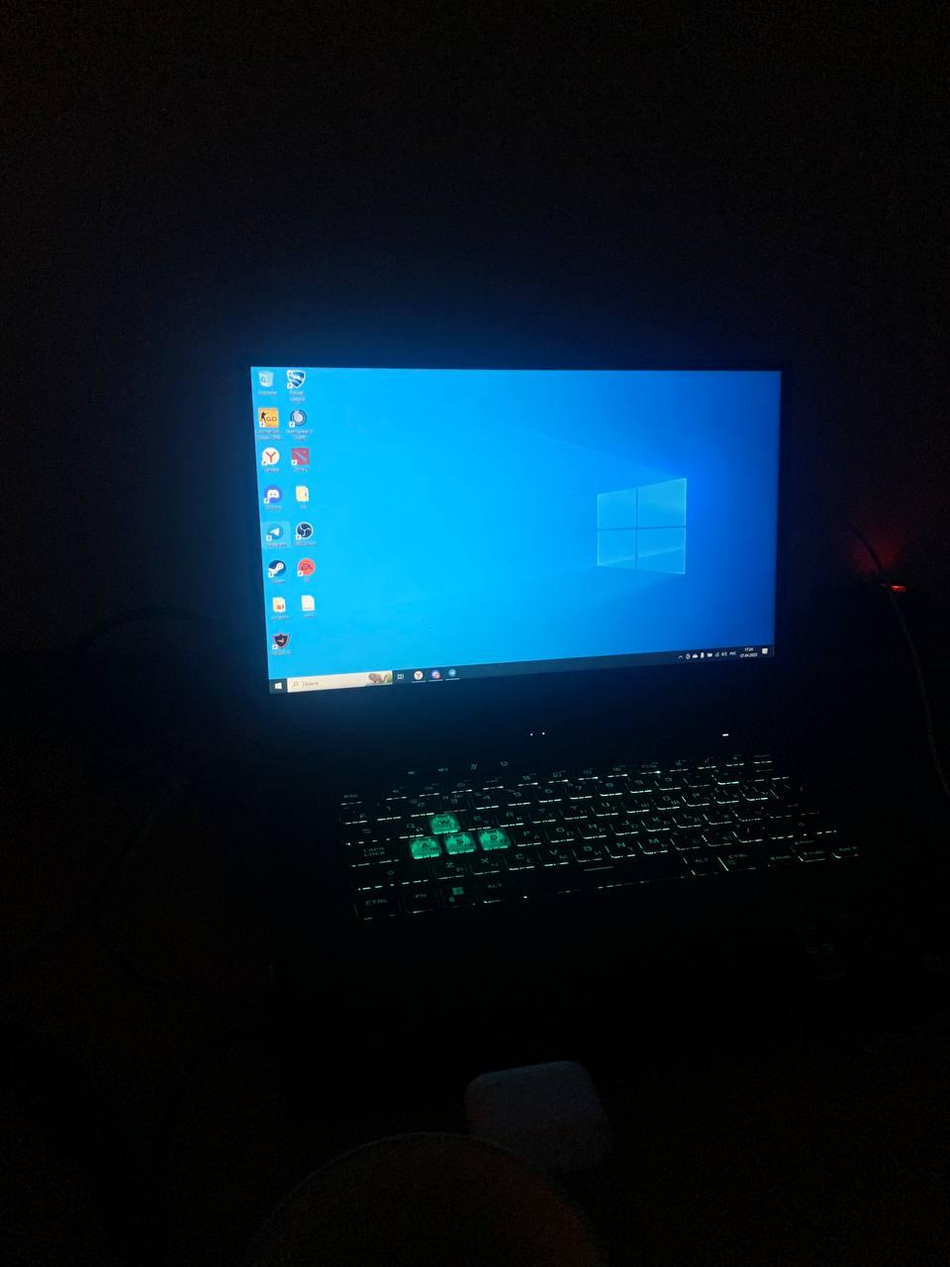monitor: (228, 337, 800, 738)
